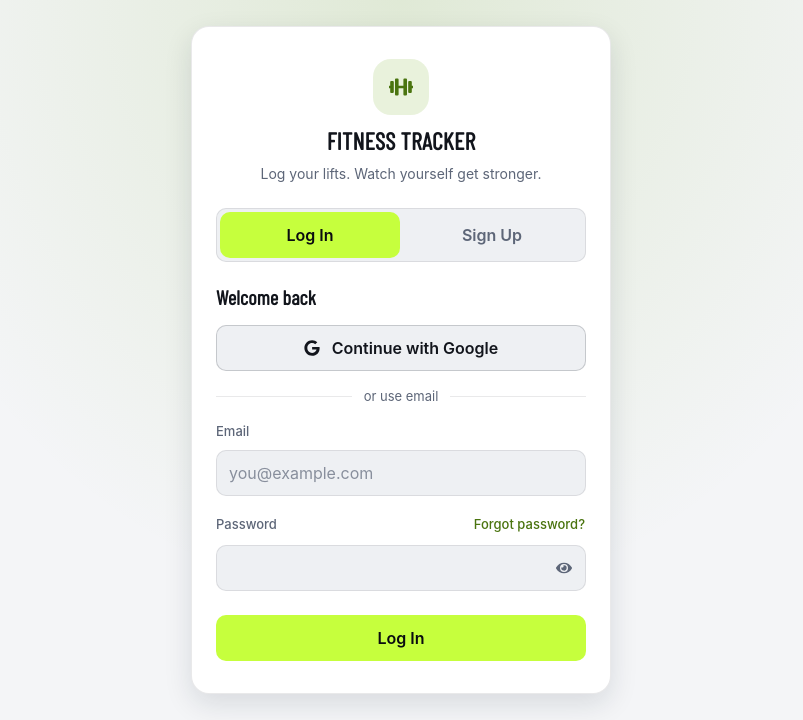
Test case: logging in › turns wrong-password errors into plain words
Type "ada@example.com" into the field labelled "Email" at (401, 472), box top-left (216, 450), bottom-right (586, 496)
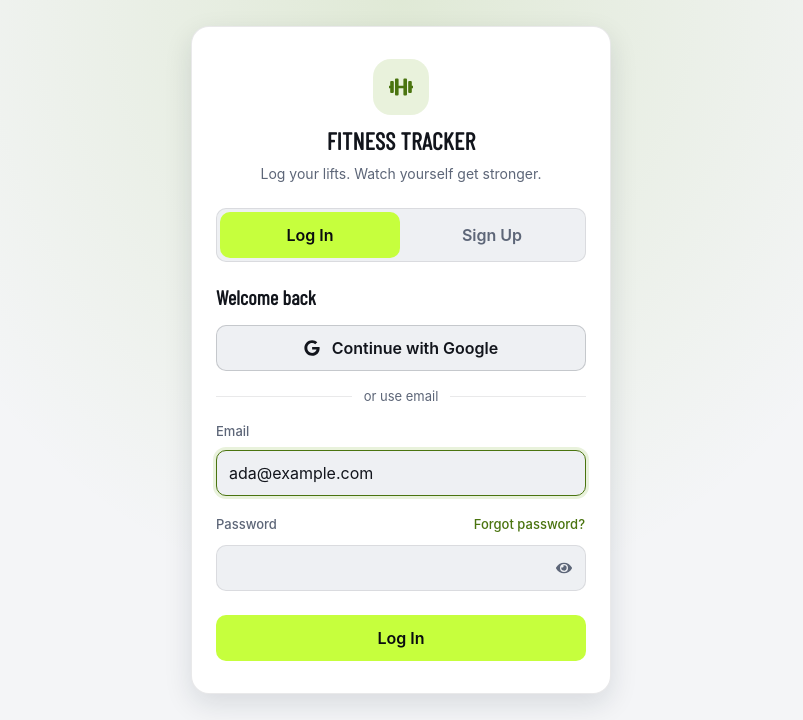
Type "wrong password" into the password field labelled "Password" at (401, 568), box top-left (216, 545), bottom-right (586, 591)
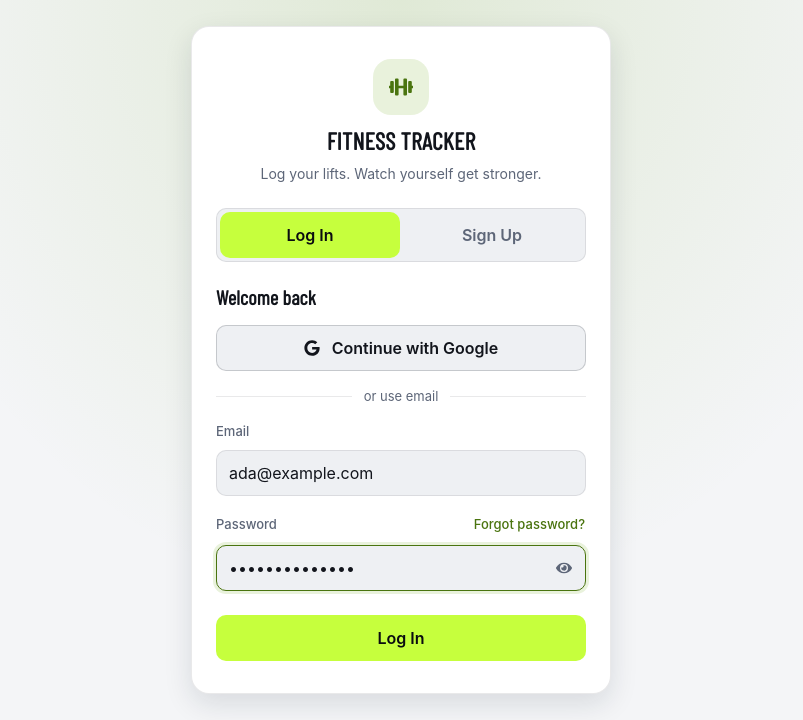
Click the button "Log In" at (401, 638), box top-left (216, 615), bottom-right (586, 661)
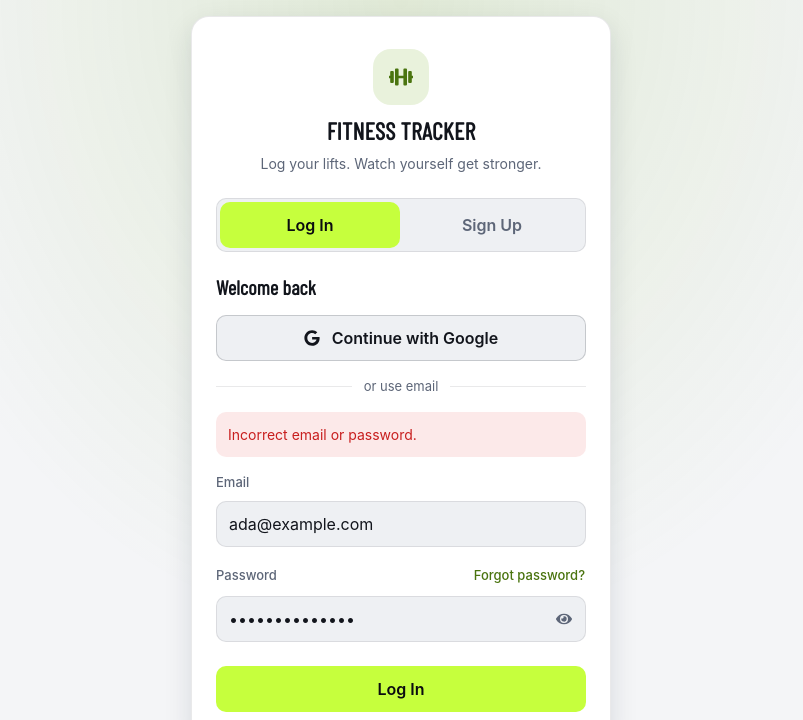
expect the message reads "Incorrect email or password.": met, box top-left (228, 426), bottom-right (417, 443)
